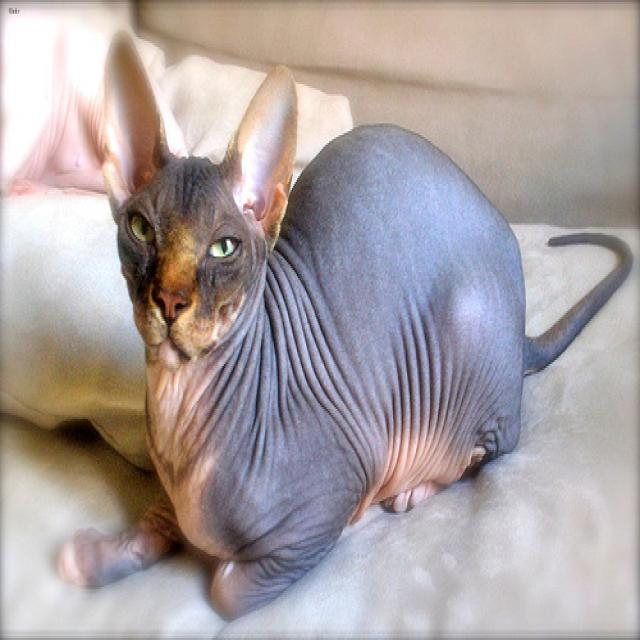cat: (100, 20, 297, 368)
